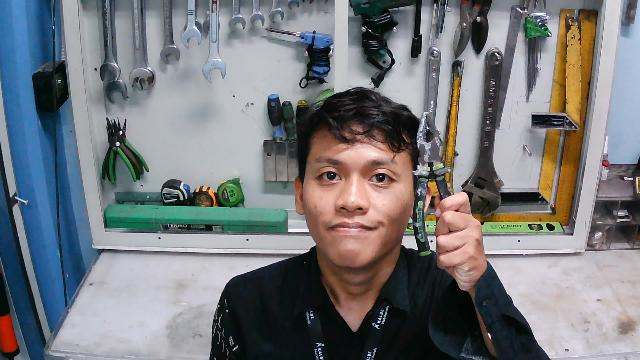tang_kombinasi: (415, 112, 458, 256)
